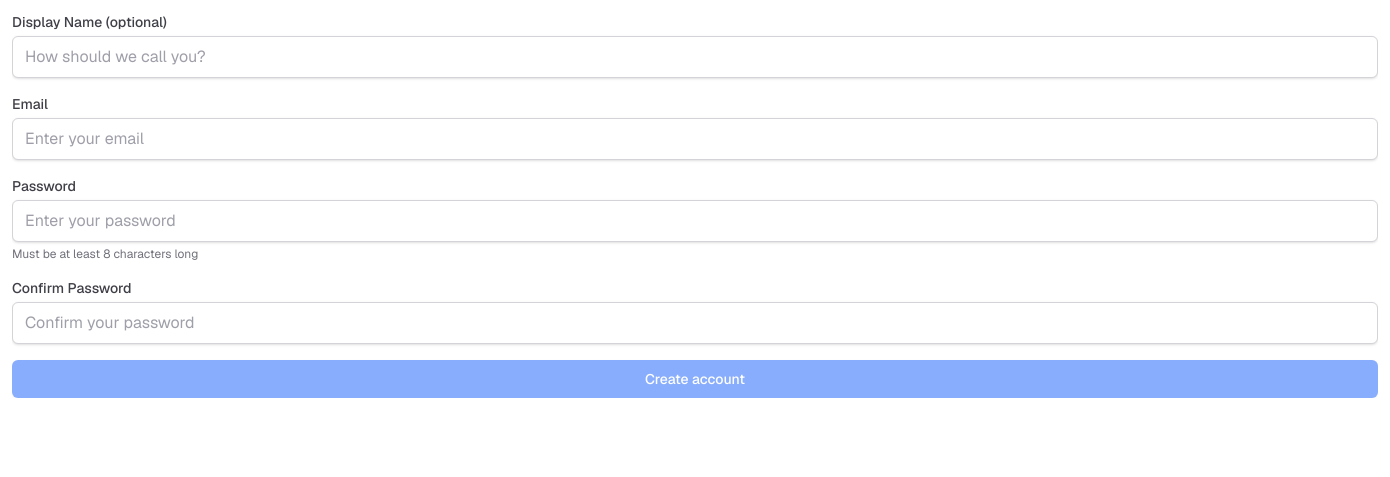
Authentication System › RegisterForm › shows password length error
Type "test@example.com" into the field labelled "Email" at {"x": 695, "y": 139}, box [12,118,1378,160]
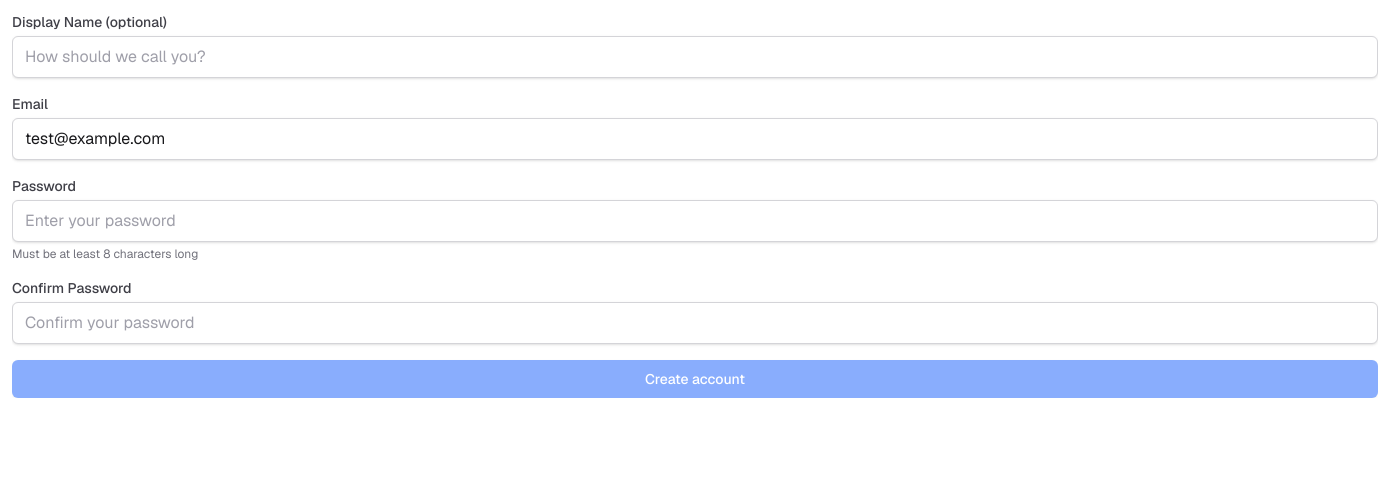
Type "short" into the password field labelled "Password" at {"x": 695, "y": 221}, box [12,200,1378,242]
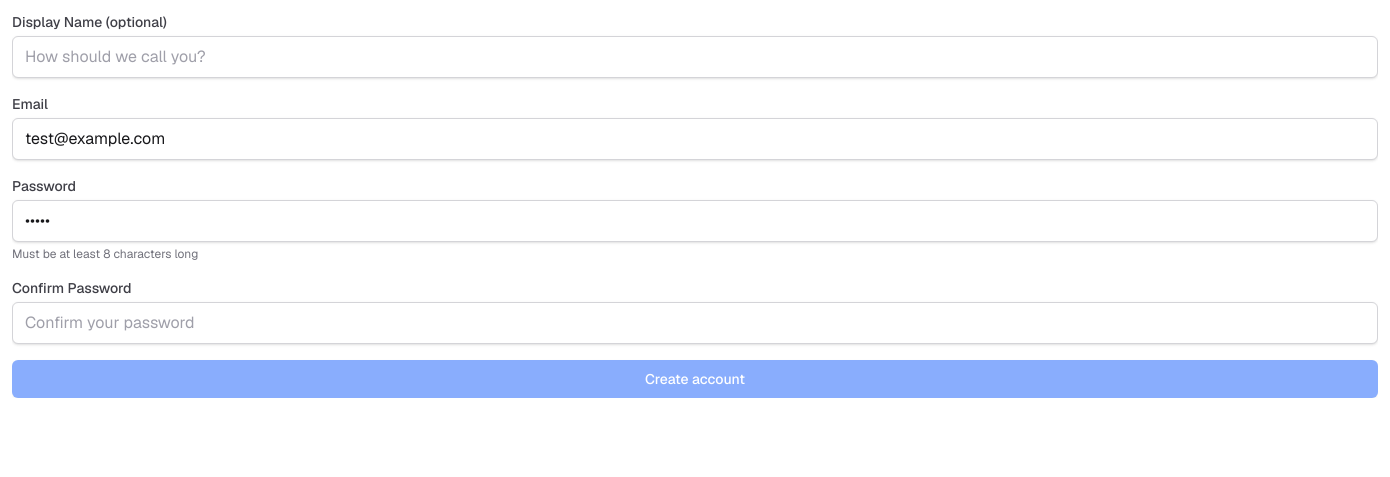
Type "short" into the password field labelled "Confirm Password" at {"x": 695, "y": 323}, box [12,302,1378,344]
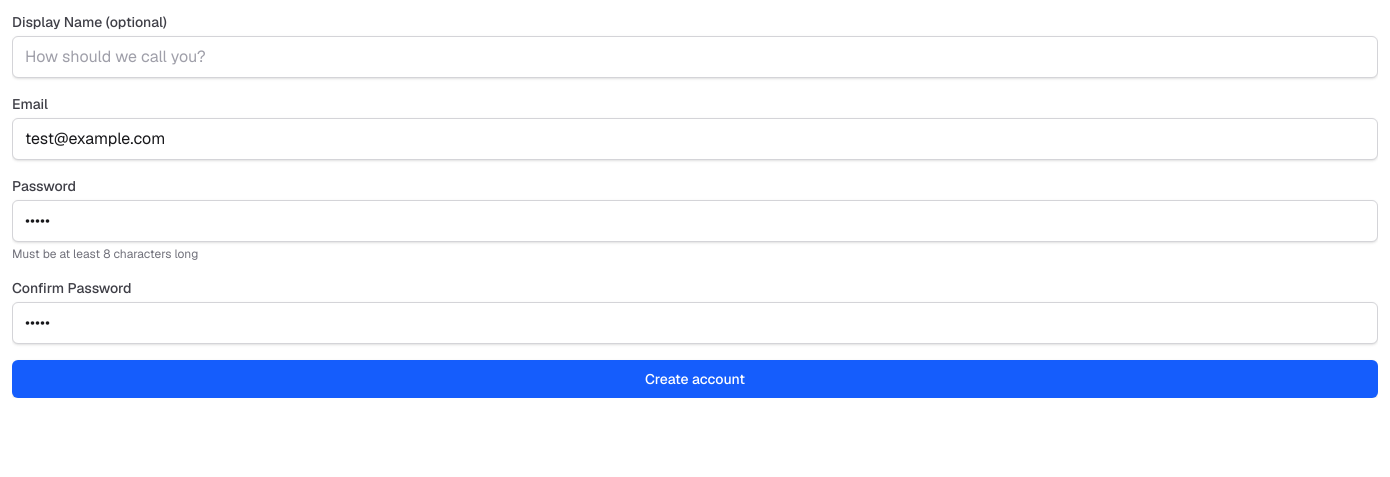
Click the button "Create account" at {"x": 695, "y": 379}, box [12,360,1378,398]
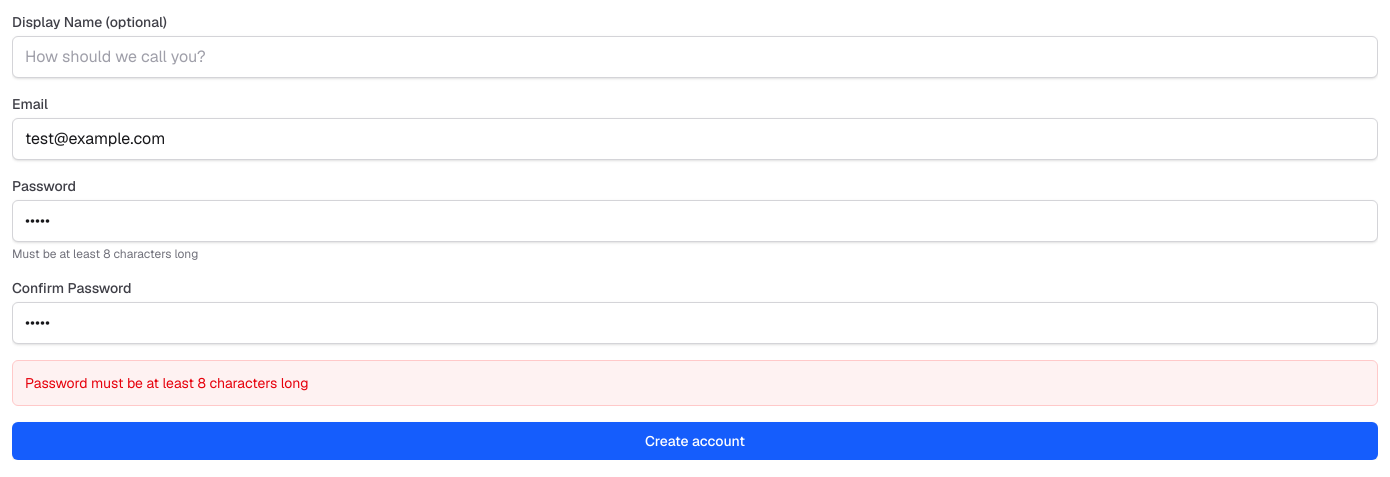
Result: the text "Password must be at least 8 characters long" is shown at [25,374,308,392]
